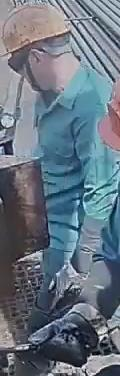gloves: (28, 260, 119, 366), (47, 220, 106, 310)
goggles: (5, 51, 34, 71)
helmet: (0, 3, 71, 56), (98, 74, 120, 152)
vest: (30, 70, 112, 240)
